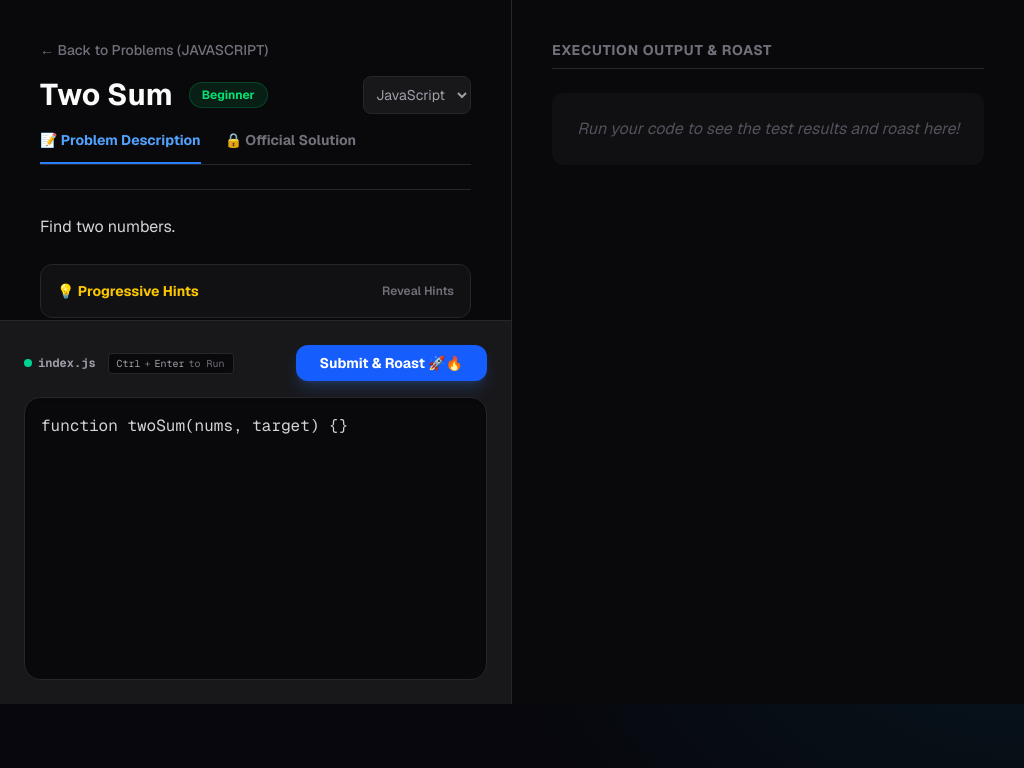
it: ProblemSolverPage - Solution Gating & Progressive Hints › automatically unlocks solution when user runs code and passes all tests
Click the button "Submit & Roast 🚀🔥" at [391, 363], box [296,345,487,381]
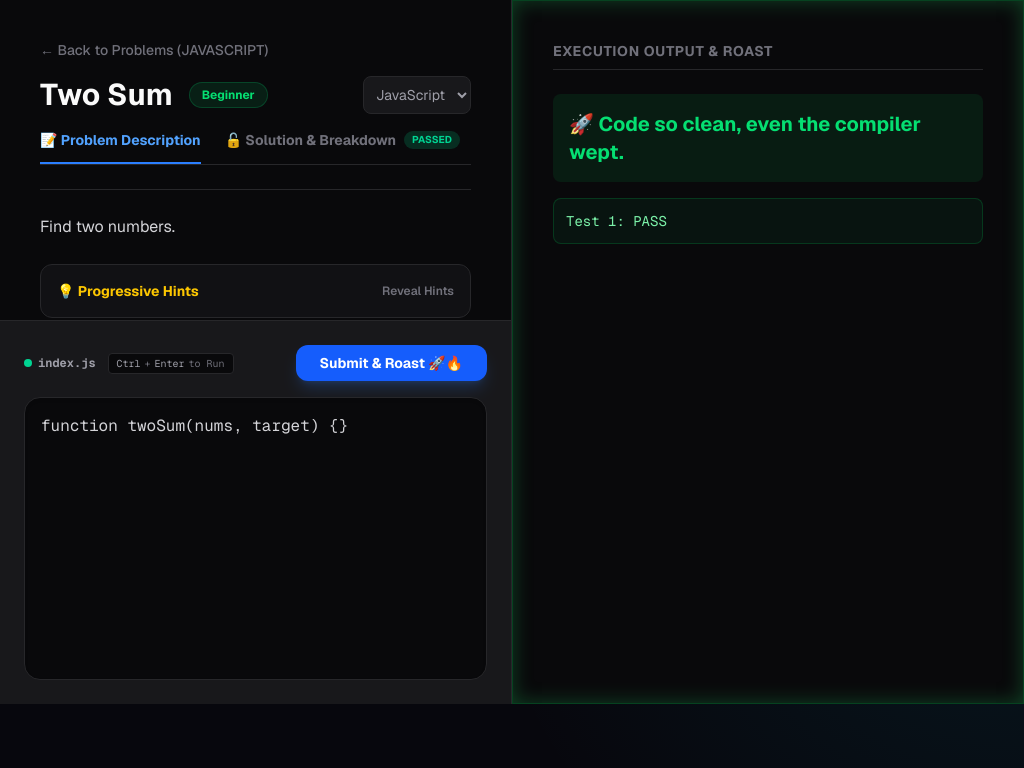
Expected: the list item "Test 1: PASS" is shown, [553,198,983,244]
// Switch to solution tab
Click the text "🔓 Solution & Breakdown" at [310, 140], box [225,130,396,150]
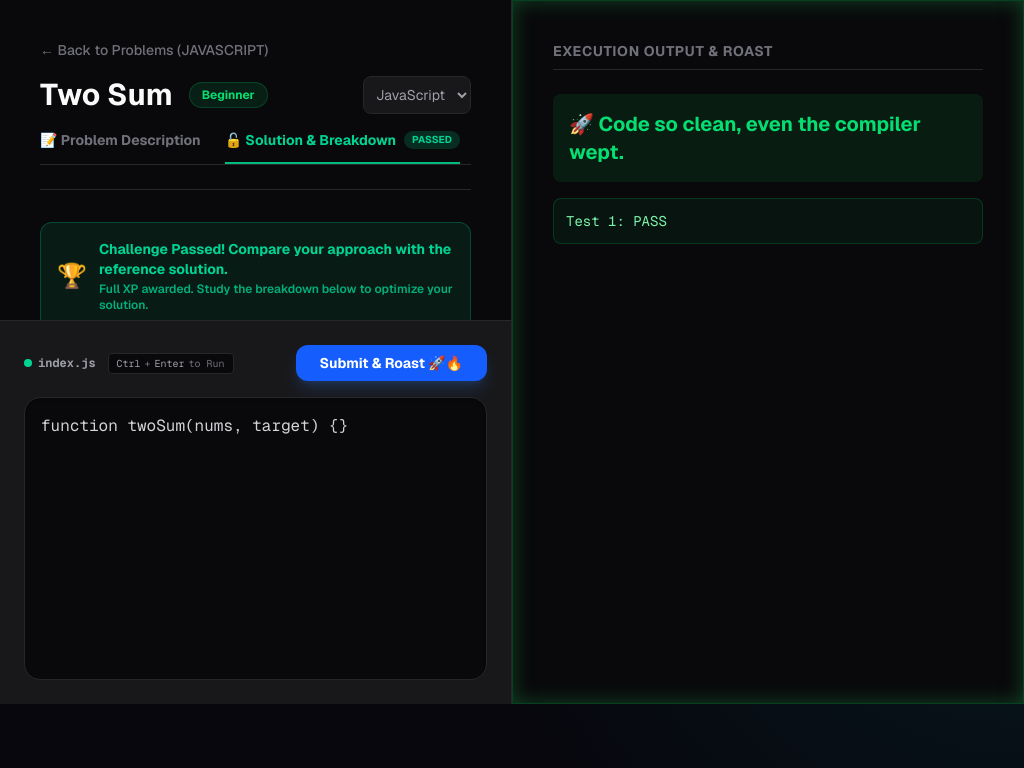
Expected: the text "Challenge Passed! Compare your approach with the reference solution" is shown, [99,240,451,278]
